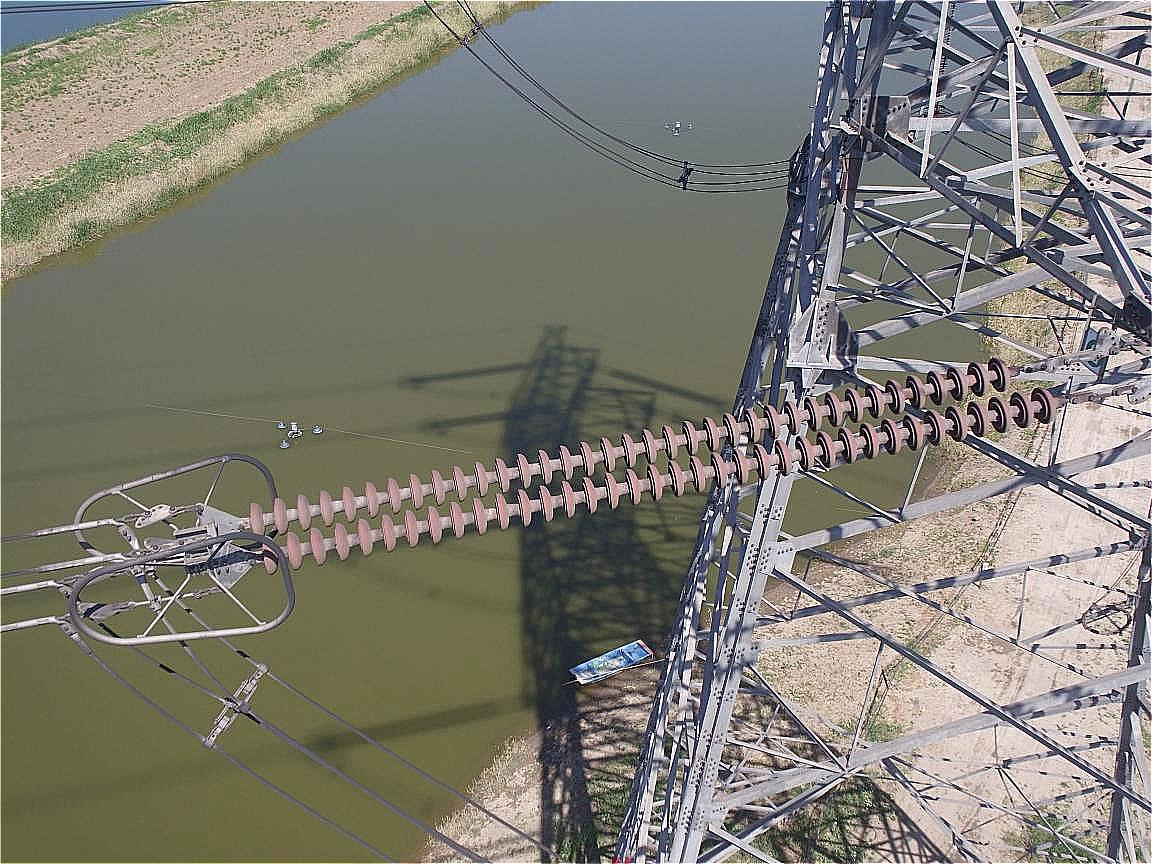insultor1: (170, 342, 1055, 577)
